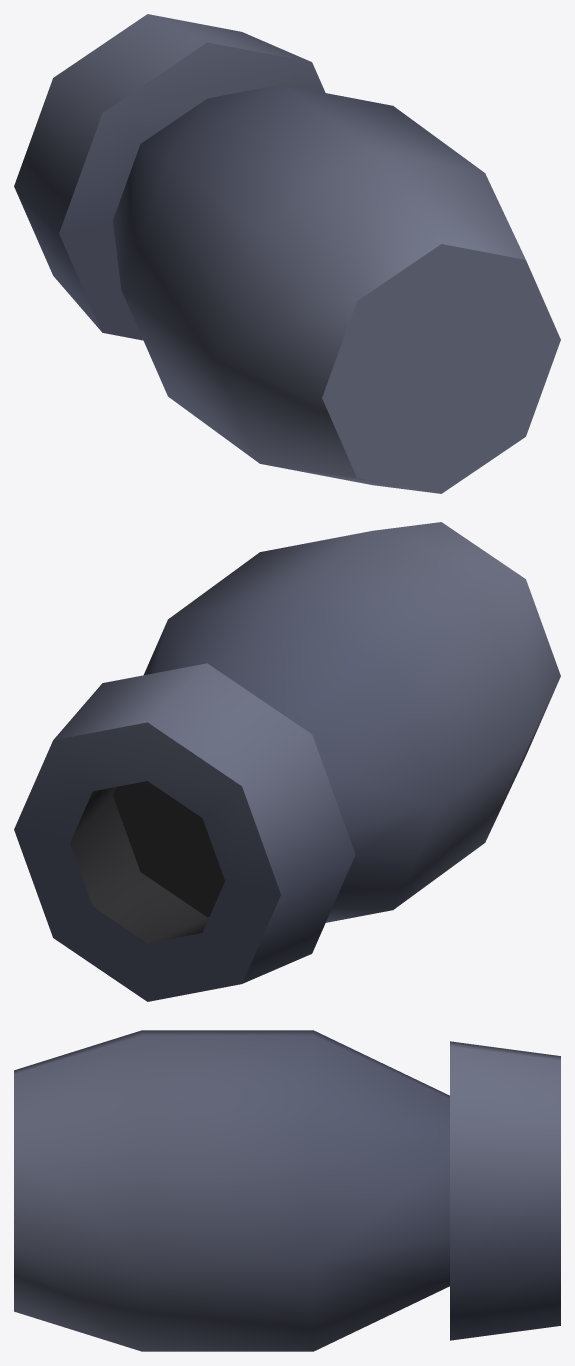
File: cannon.fbx
The picture shows the model from 3 angles, top to bottom: view 1: azimuth 30°, elevation 25°; view 2: azimuth 150°, elevation 25°; view 3: azimuth 270°, elevation 25°; orthographic projection. The views are drawn at different scales.
Parts seen in each view (by area): view 1: barrel; view 2: barrel; view 3: barrel.
Part boxes in pixels (x1,y1,x2,y2): barrel: [14, 14, 560, 493]; barrel: [14, 522, 560, 1001]; barrel: [14, 1030, 560, 1351].
Bounding box in the file's own units: 0.6257 × 0.6257 × 1.
